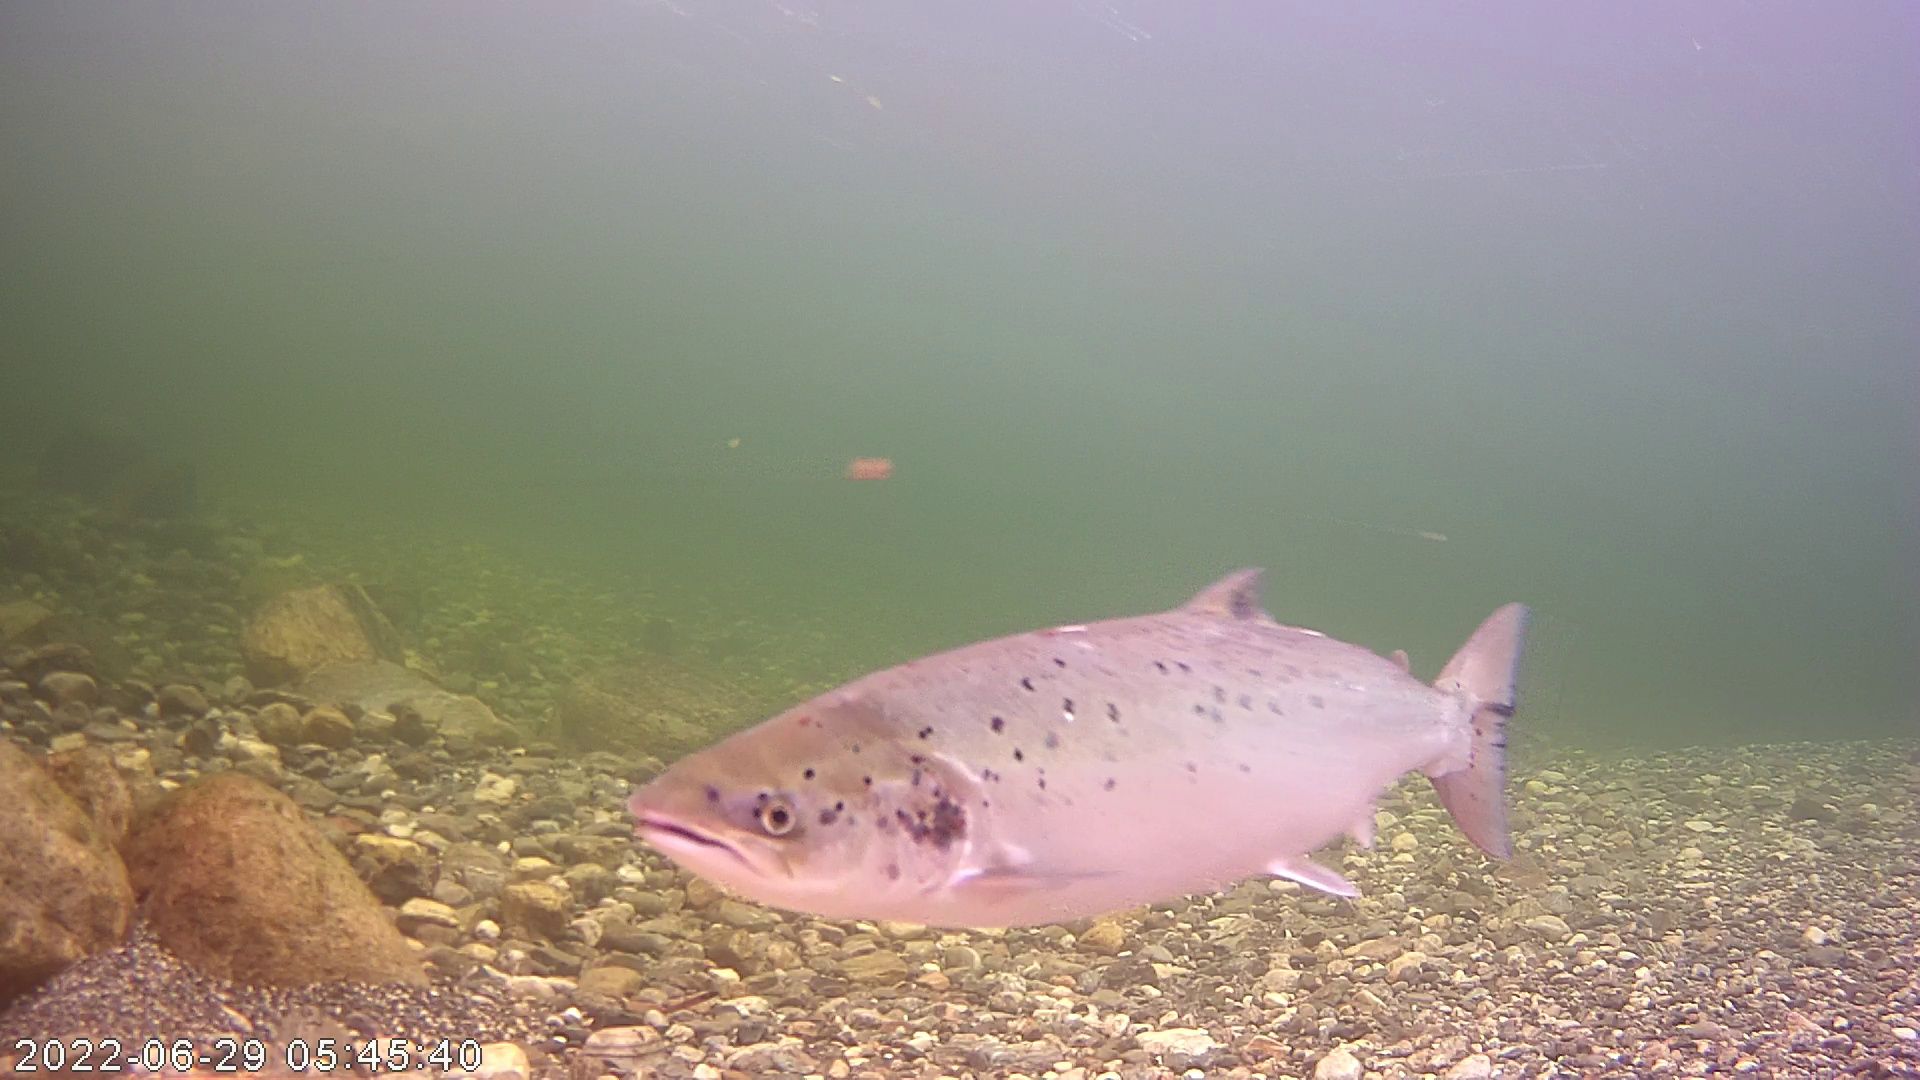salmon: (640, 491, 1538, 947)
